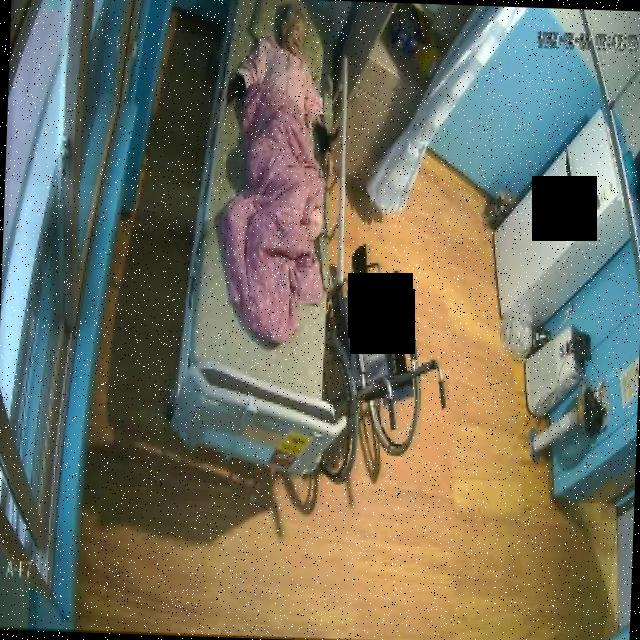bed: (173, 0, 347, 469)
lie: (215, 0, 336, 349)
patient: (224, 0, 341, 152)
